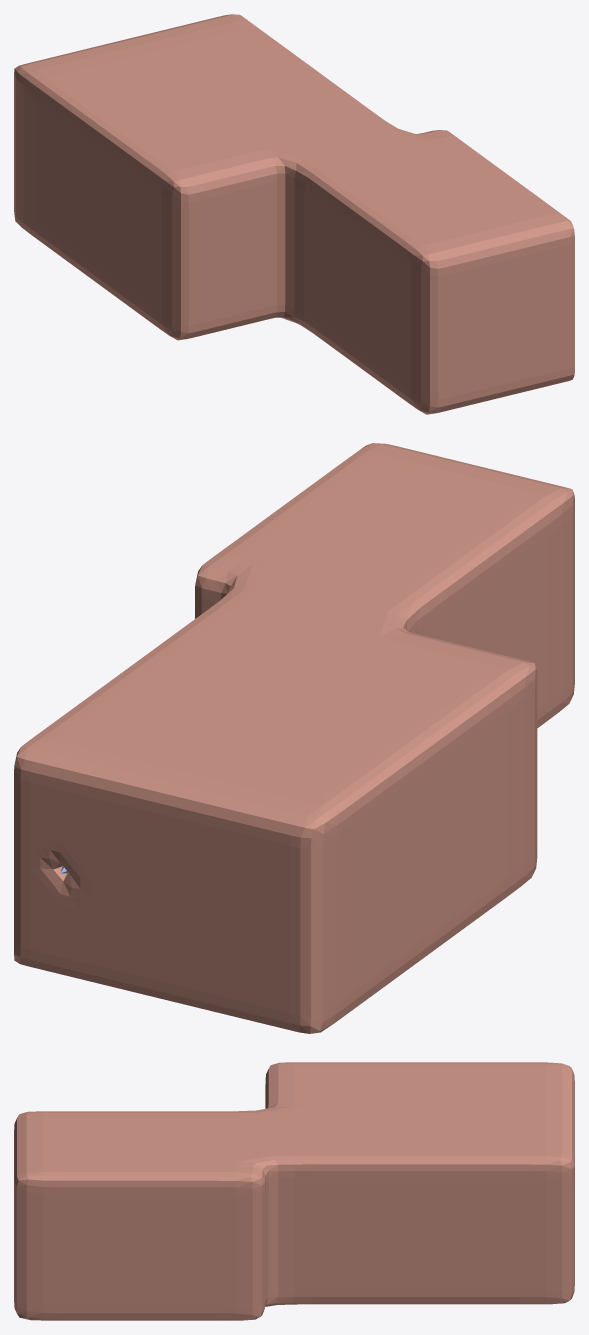
The picture shows the model from 3 angles, top to bottom: view 1: azimuth 30°, elevation 25°; view 2: azimuth 150°, elevation 25°; view 3: azimuth 270°, elevation 25°; orthographic projection. The views are drawn at different scales.
Parts seen in each view (by area): view 1: liver; view 2: liver; view 3: liver.
Part boxes in pixels (<box>): liver: <box>14,14,574,414</box>; liver: <box>14,443,574,1033</box>; liver: <box>14,1062,574,1320</box>.
Bounding box in the file's own units: 28.8 × 16.8 × 58.
